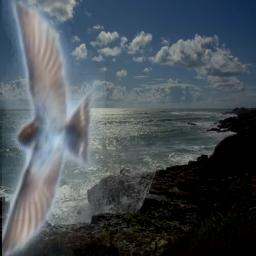Swallow: (2, 0, 105, 256)
